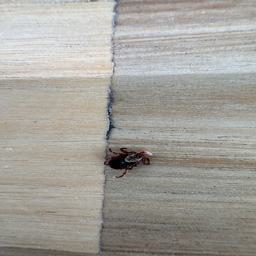Dermacentor variabilis: (102, 145, 155, 179)
